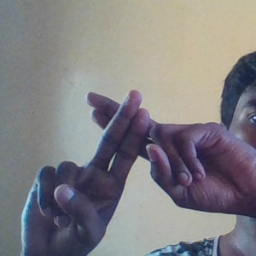F: (55, 78, 207, 206)
